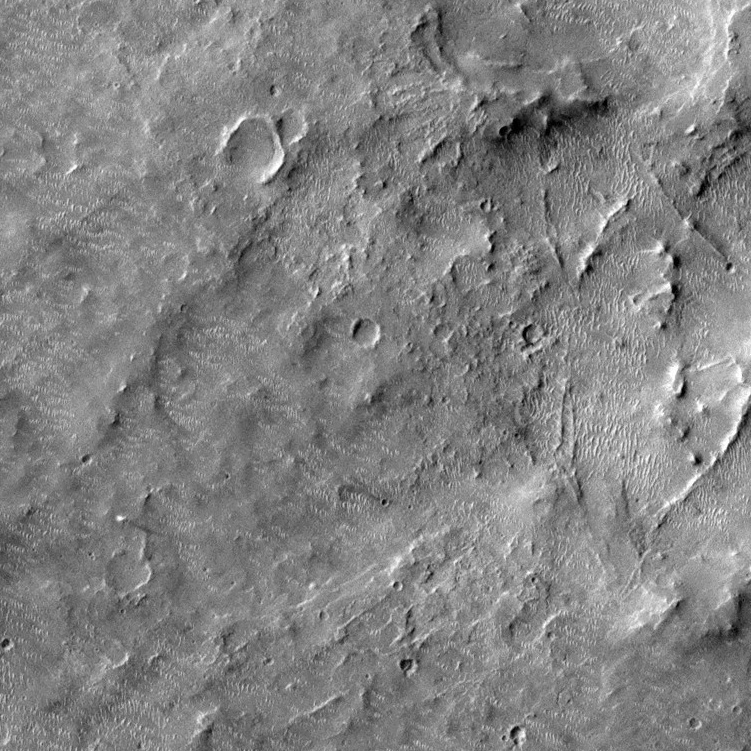dust_devil: (115, 514, 152, 535)
